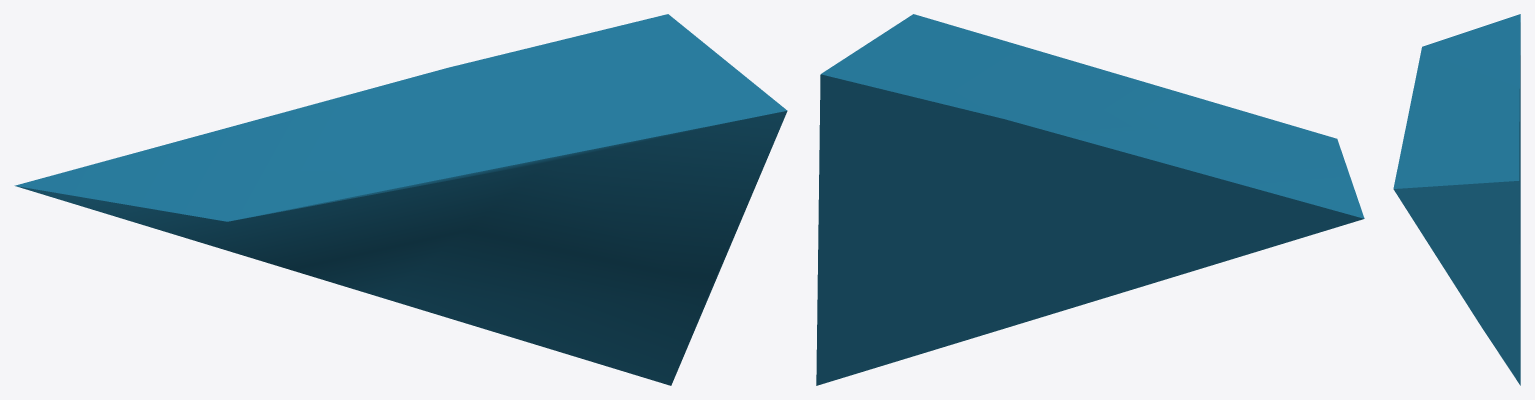
File: destructable_mfrag02.fbx
The picture shows the model from 3 angles, left to right: view 1: azimuth 30°, elevation 25°; view 2: azimuth 150°, elevation 25°; view 3: azimuth 270°, elevation 25°; orthographic projection. The views are drawn at different scales.
Visible parts, largest first — view 1: destCube_frag_01; view 2: destCube_frag_01; view 3: destCube_frag_01.
Boxes of the visible parts, x1,y1,x2,y2 form: destCube_frag_01: (14,14,787,385); destCube_frag_01: (816,14,1364,385); destCube_frag_01: (1393,14,1520,385).
Size of the model in its own units: 1.65 by 0.895 by 0.5053.
